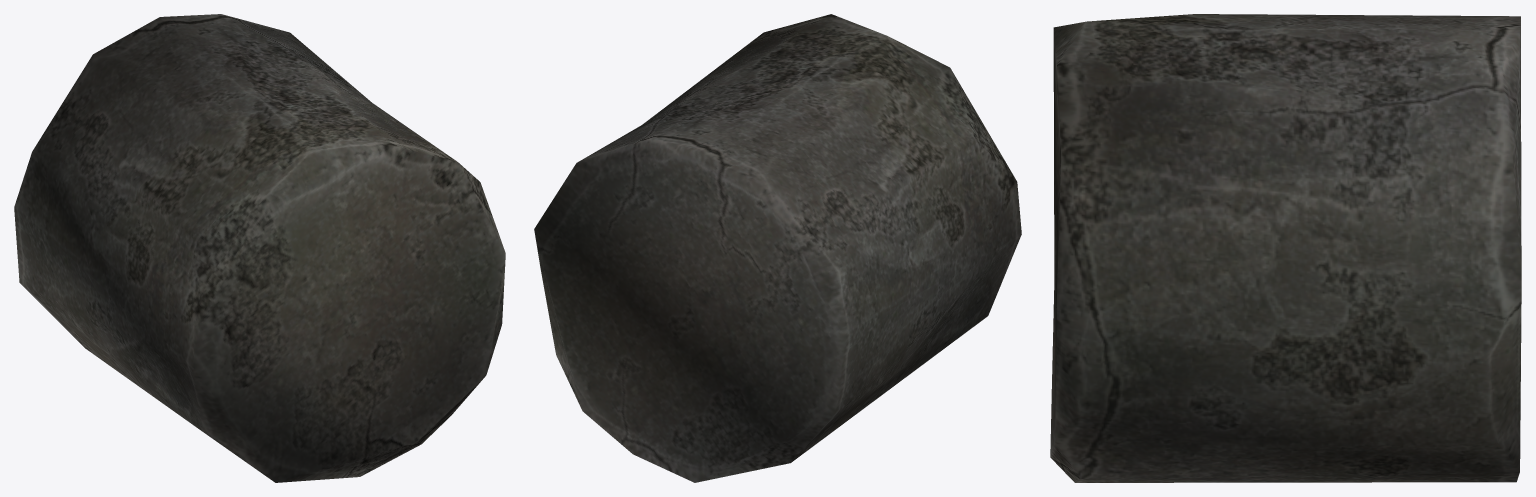
Rendered from TI_Pillar_Part_03.fbx.
The picture shows the model from 3 angles, left to right: view 1: azimuth 30°, elevation 25°; view 2: azimuth 150°, elevation 25°; view 3: azimuth 270°, elevation 25°; orthographic projection. The views are drawn at different scales.
Parts seen in each view (by area): view 1: TI_Pillar_Part_03; view 2: TI_Pillar_Part_03; view 3: TI_Pillar_Part_03.
Boxes of the visible parts, x1=… form: TI_Pillar_Part_03: x1=14, y1=14, x2=505, y2=482; TI_Pillar_Part_03: x1=534, y1=14, x2=1021, y2=482; TI_Pillar_Part_03: x1=1050, y1=14, x2=1521, y2=482.
Bounding box in the file's own units: 1.07 × 1.09 × 1.08.
